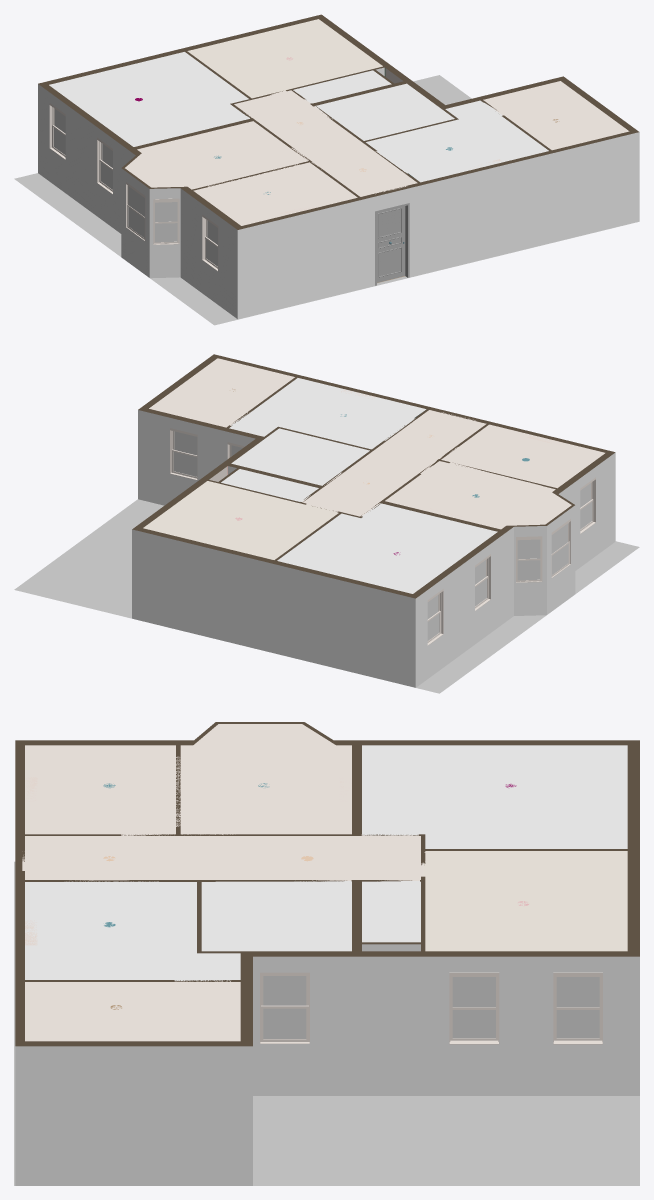
Rendered from casa2.glb.
3 views of the same model, one above another, from view 1: azimuth 30°, elevation 25°; view 2: azimuth 150°, elevation 25°; view 3: azimuth 270°, elevation 25° (orthographic). The views are drawn at different scales.
Parts seen in each view (by area): view 1: casa; view 2: casa; view 3: casa.
Boxes of the visible parts, <box> form: casa: <box>14,14,639,325</box>; casa: <box>14,354,639,693</box>; casa: <box>14,722,639,1185</box>.
Bounding box in the file's own units: 1247 × 250 × 1017.
